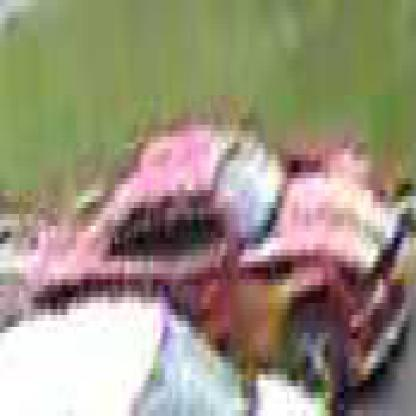car: (37, 138, 412, 387)
